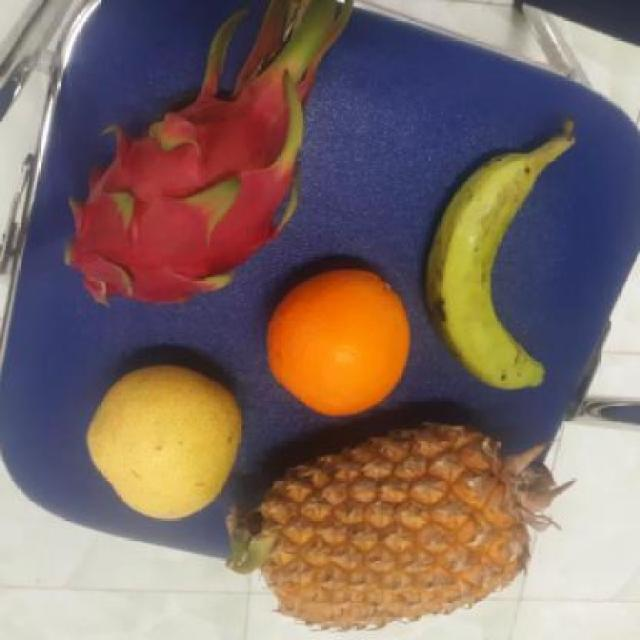banana: (417, 145, 558, 389)
dragon fruit: (58, 81, 311, 304)
guava: (80, 362, 242, 516)
pear: (261, 268, 414, 415)
pineapple: (239, 416, 523, 626)
